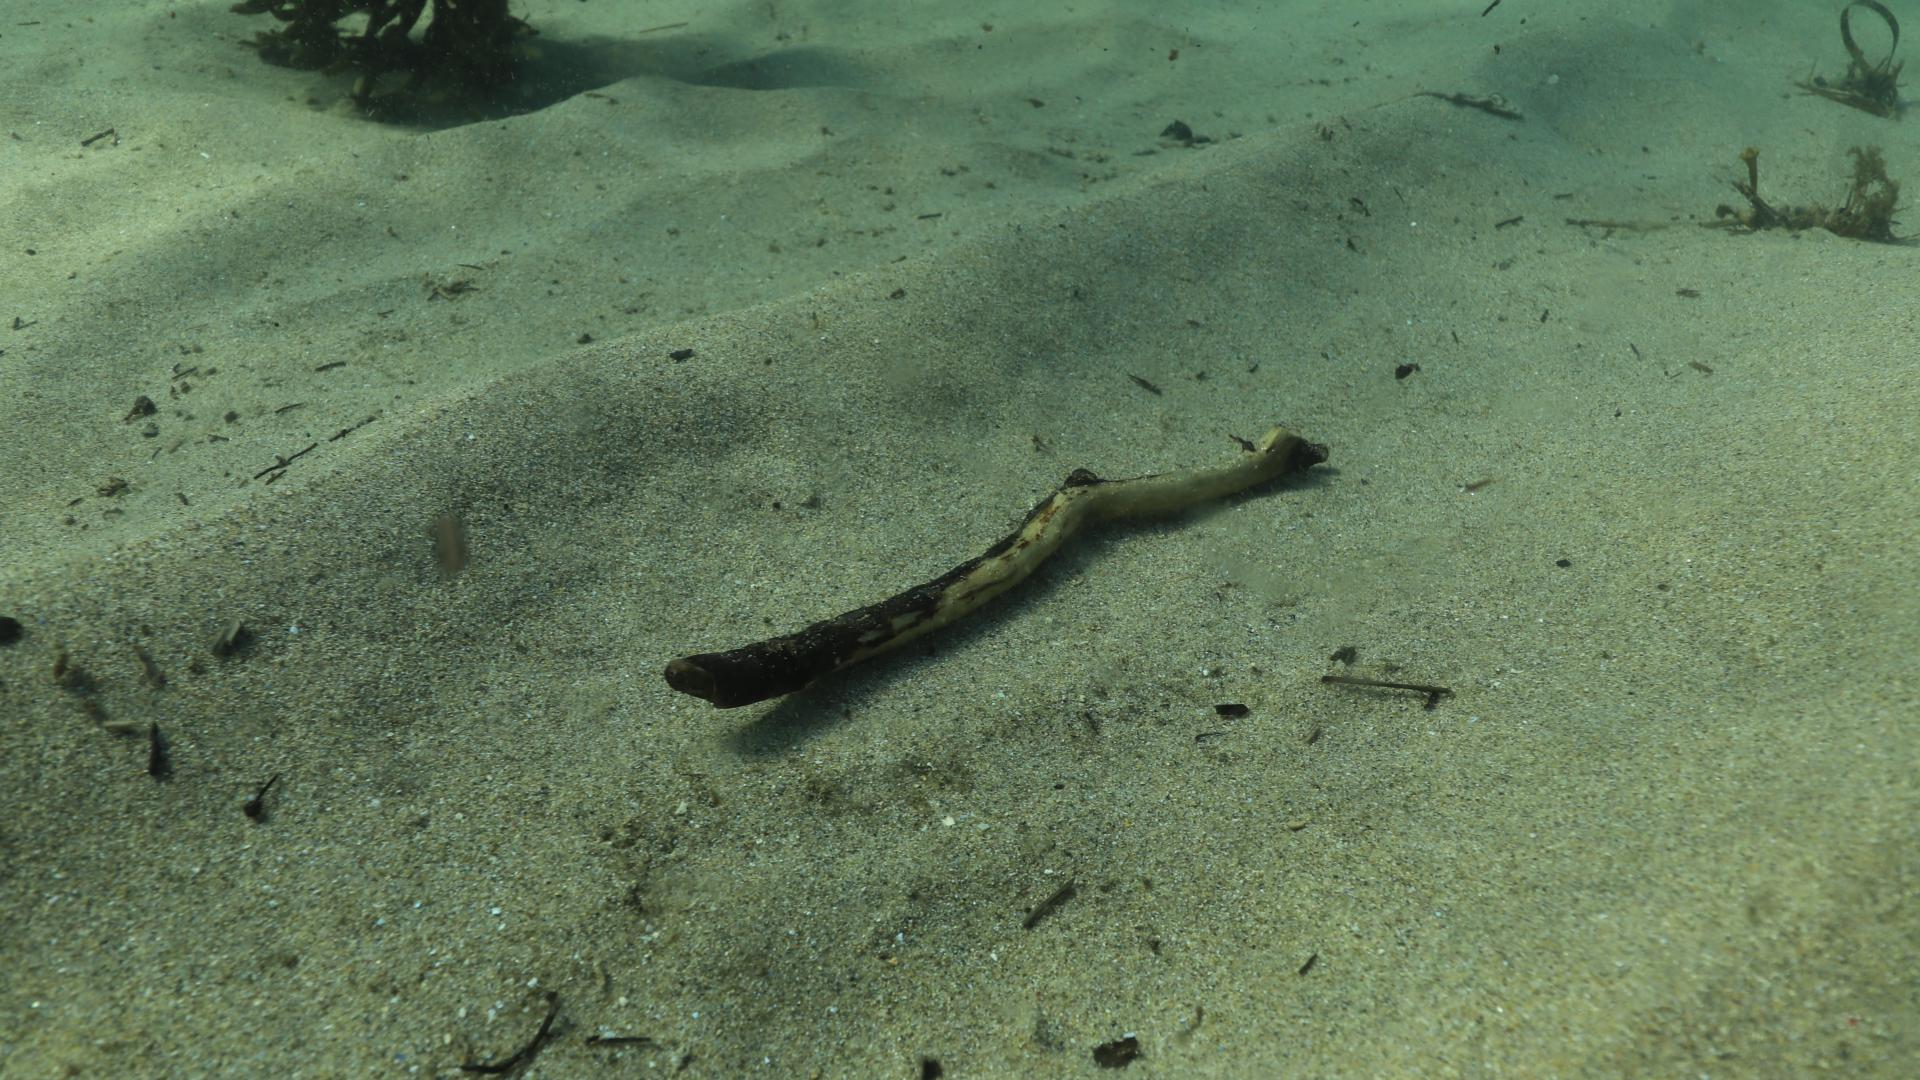wood: (665, 429, 1332, 707)
